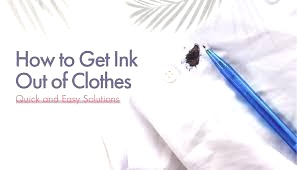ink: (186, 45, 200, 68)
